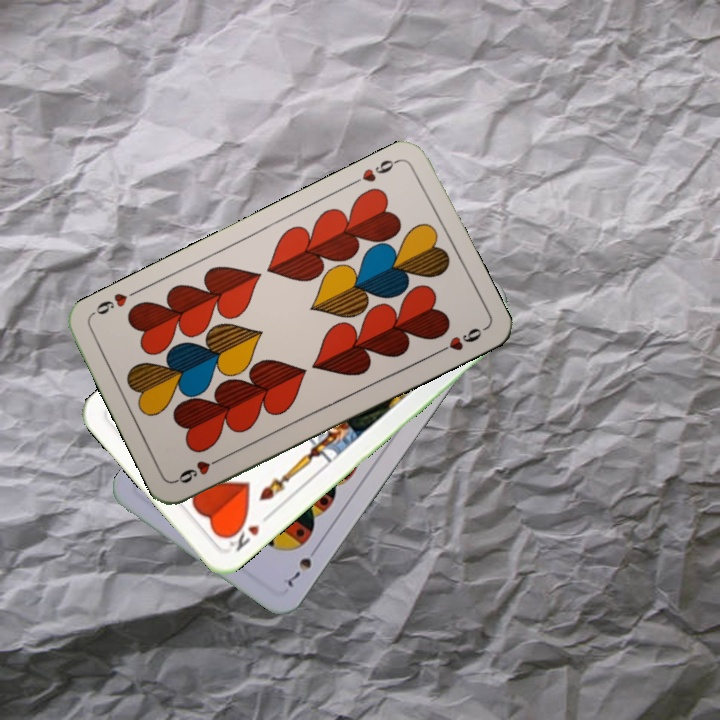H9: (172, 452, 227, 486), (347, 155, 403, 188)
HK: (220, 509, 274, 554)
S7: (283, 541, 322, 589)
